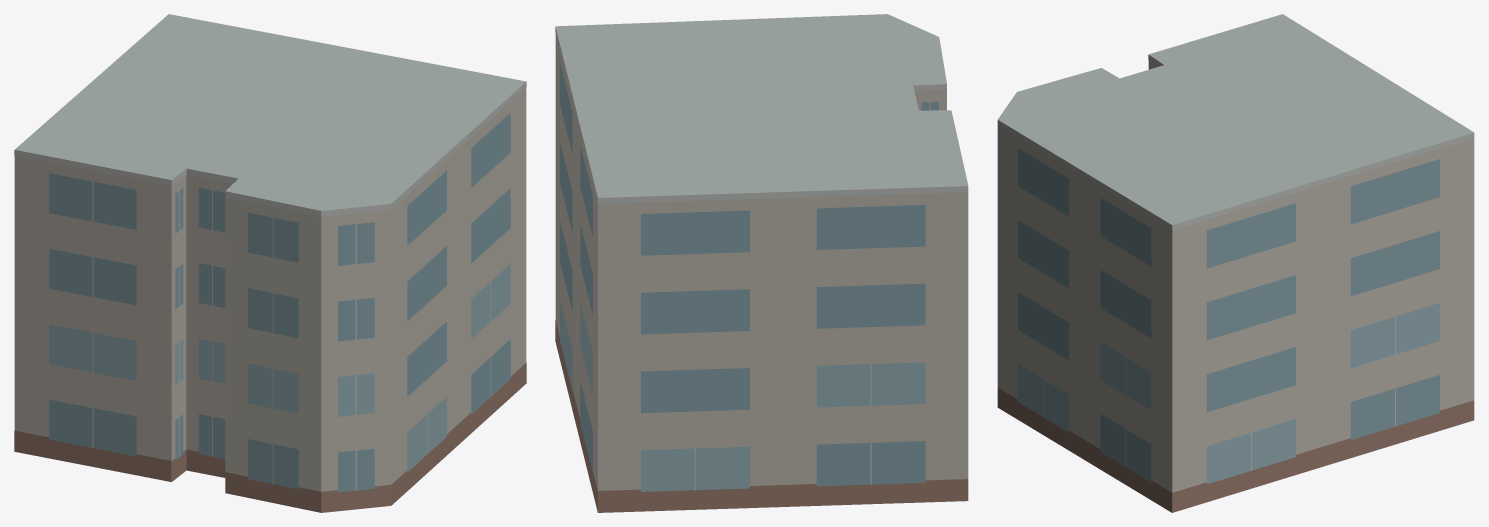
File: survey-upis-32810728.glb
3 views of the same model, side by side, from view 1: azimuth 30°, elevation 25°; view 2: azimuth 150°, elevation 25°; view 3: azimuth 270°, elevation 25° (orthographic). The views are drawn at different scales.
Parts seen in each view (by area): view 1: survey-upis-32810728.tmp; view 2: survey-upis-32810728.tmp; view 3: survey-upis-32810728.tmp.
Boxes of the visible parts, bbox=[...] form: survey-upis-32810728.tmp: bbox=[14, 14, 526, 512]; survey-upis-32810728.tmp: bbox=[555, 14, 968, 512]; survey-upis-32810728.tmp: bbox=[997, 14, 1474, 512].
Bounding box in the file's own units: 20.15 × 12.8 × 19.23.
